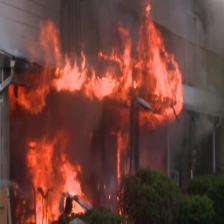fire: (18, 12, 186, 223)
